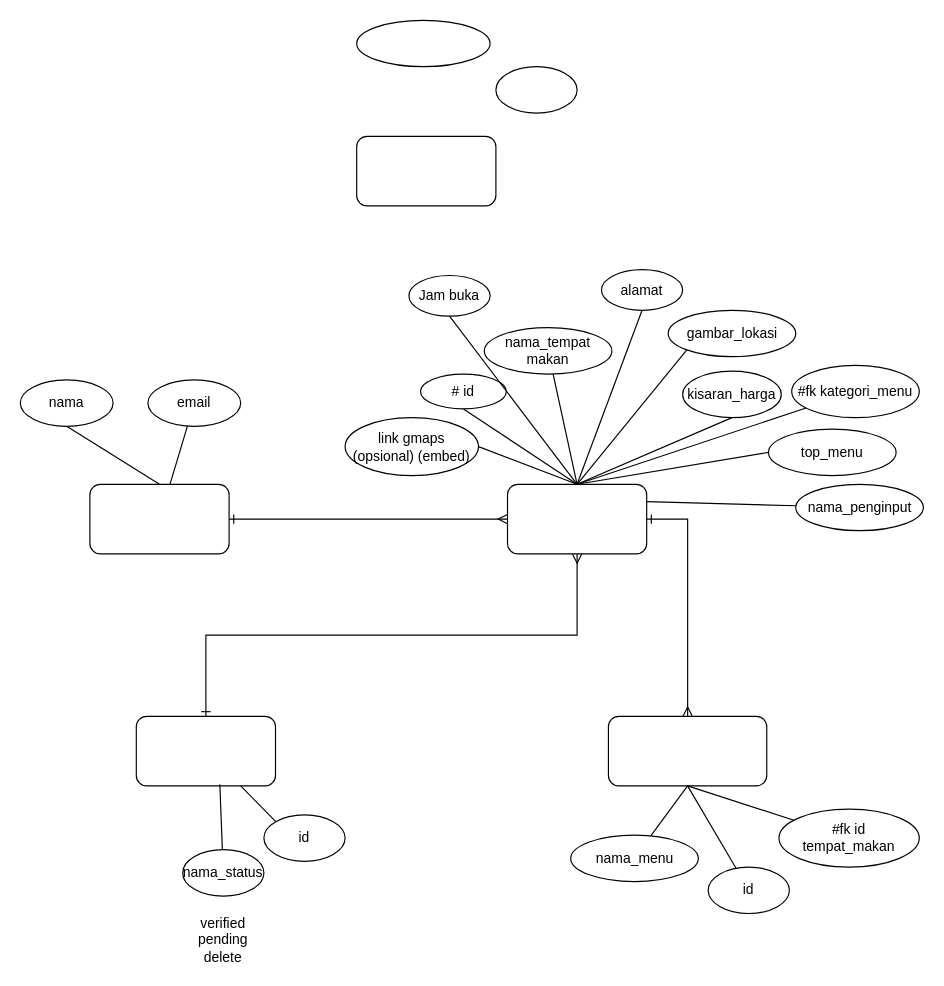
This 944x986 diagram has some shape labels left out. Each missing label, with the centre of its shape:
admin: the point at 159,518
form user: the point at 426,170
lokasi saran: the point at 536,89
menu_makanan: the point at 687,750
nama_penguna: the point at 423,43
status: the point at 205,750
tempat makan: the point at 576,518
